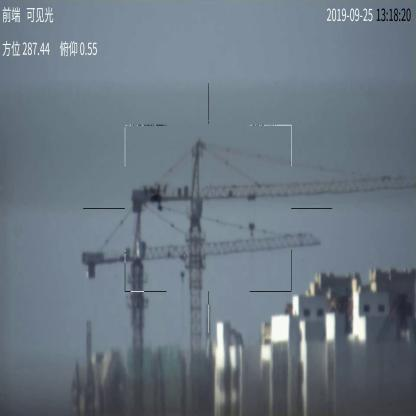uav: (146, 181, 170, 210)
